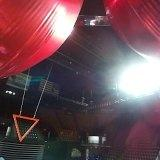Orange_Triangle_Gshape: (12, 115, 39, 142)
